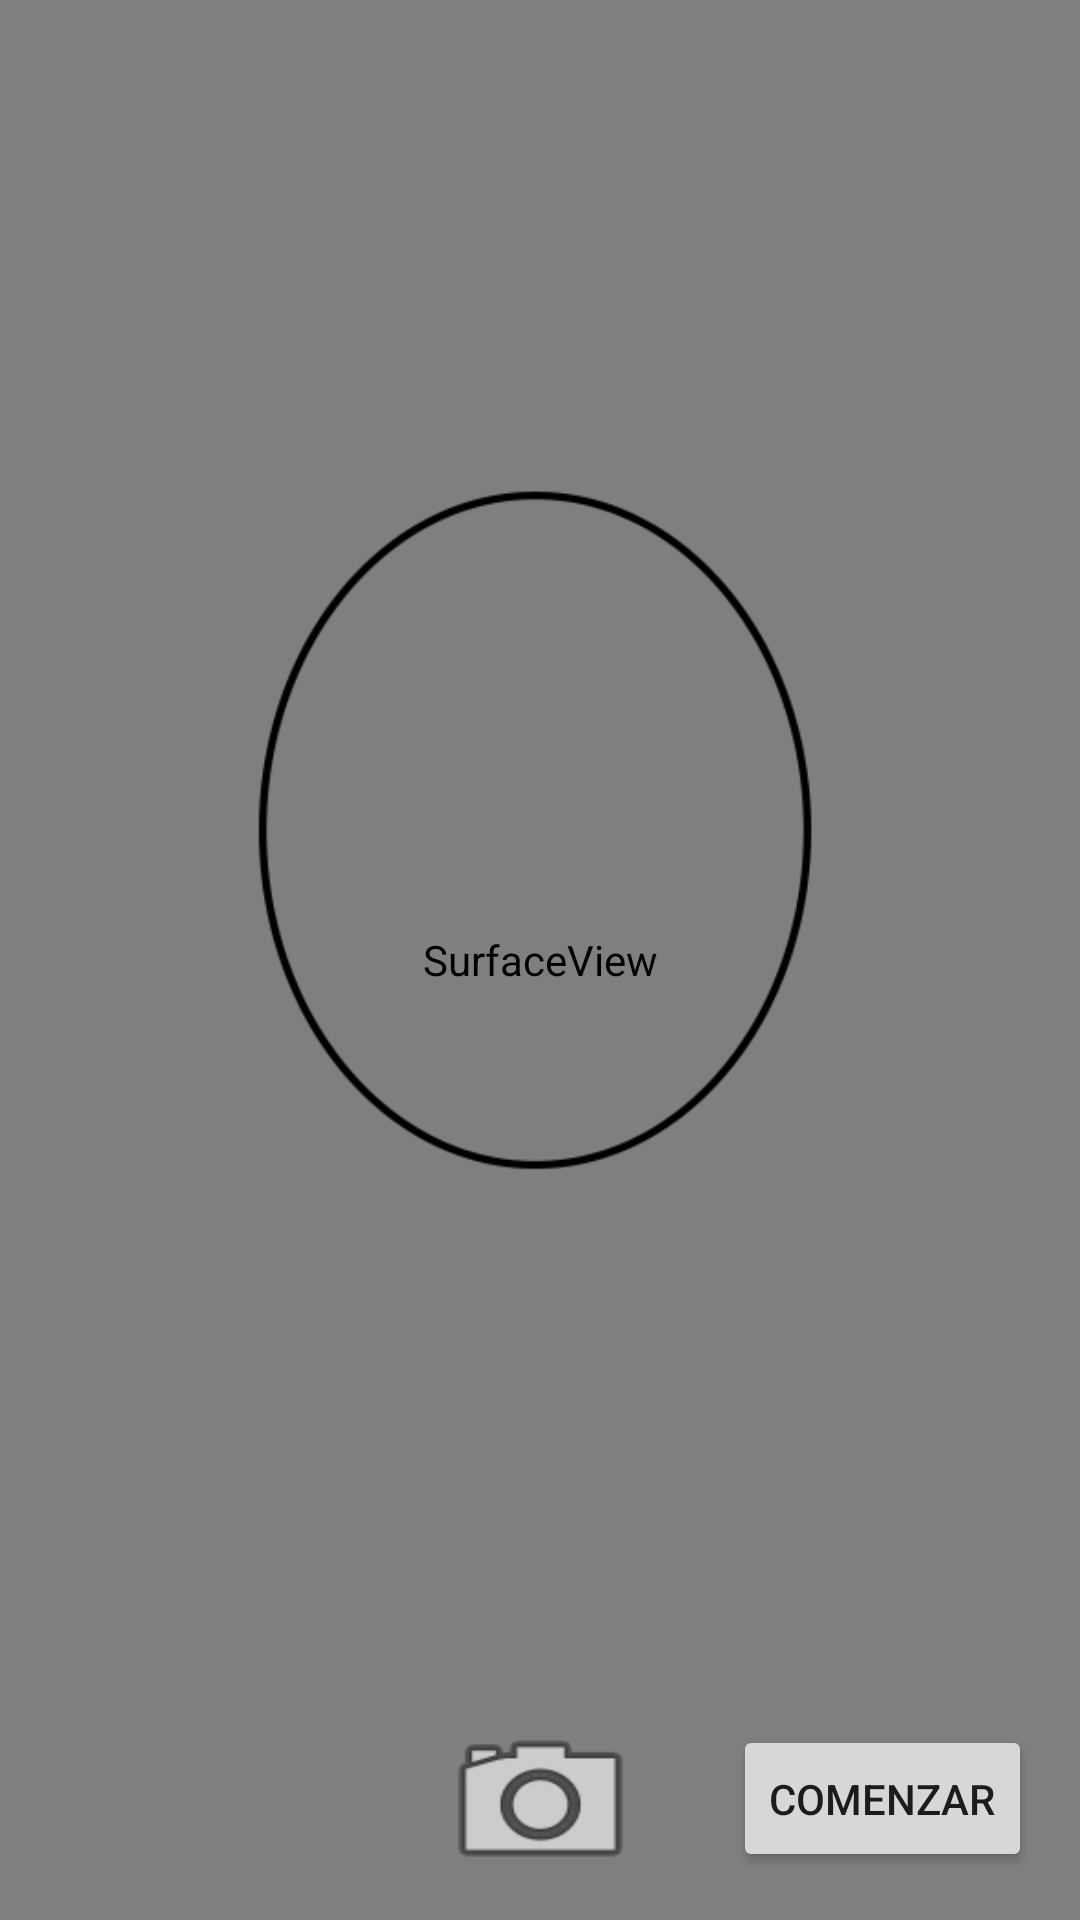

Screen size 1080px×1920px. Icon name, then its center in pixels as (x=x, y=y):
camera: (x=540, y=1798)
